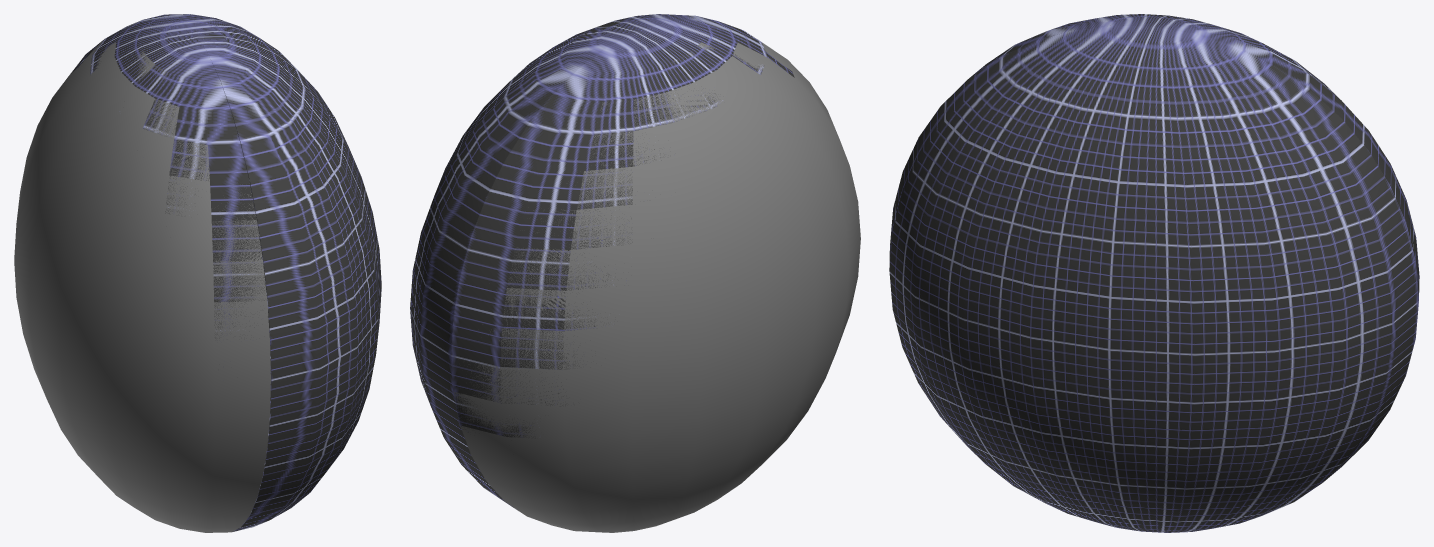
File: NAV_NavReader_MandM_update.fbx
3 views of the same model, side by side, from view 1: azimuth 30°, elevation 25°; view 2: azimuth 150°, elevation 25°; view 3: azimuth 270°, elevation 25° (orthographic). The views are drawn at different scales.
Parts seen in each view (by area): view 1: ExteriorGlass, GalaxGrid; view 2: ExteriorGlass, GalaxGrid; view 3: GalaxGrid.
Part boxes in pixels (box(x1,y1,x2,y2)): ExteriorGlass: box(14, 40, 270, 532); GalaxGrid: box(71, 14, 381, 531); ExteriorGlass: box(454, 42, 860, 532); GalaxGrid: box(410, 14, 794, 510); GalaxGrid: box(889, 14, 1419, 532).
Bounding box in the file's own units: 0.5586 × 0.8001 × 0.779.
